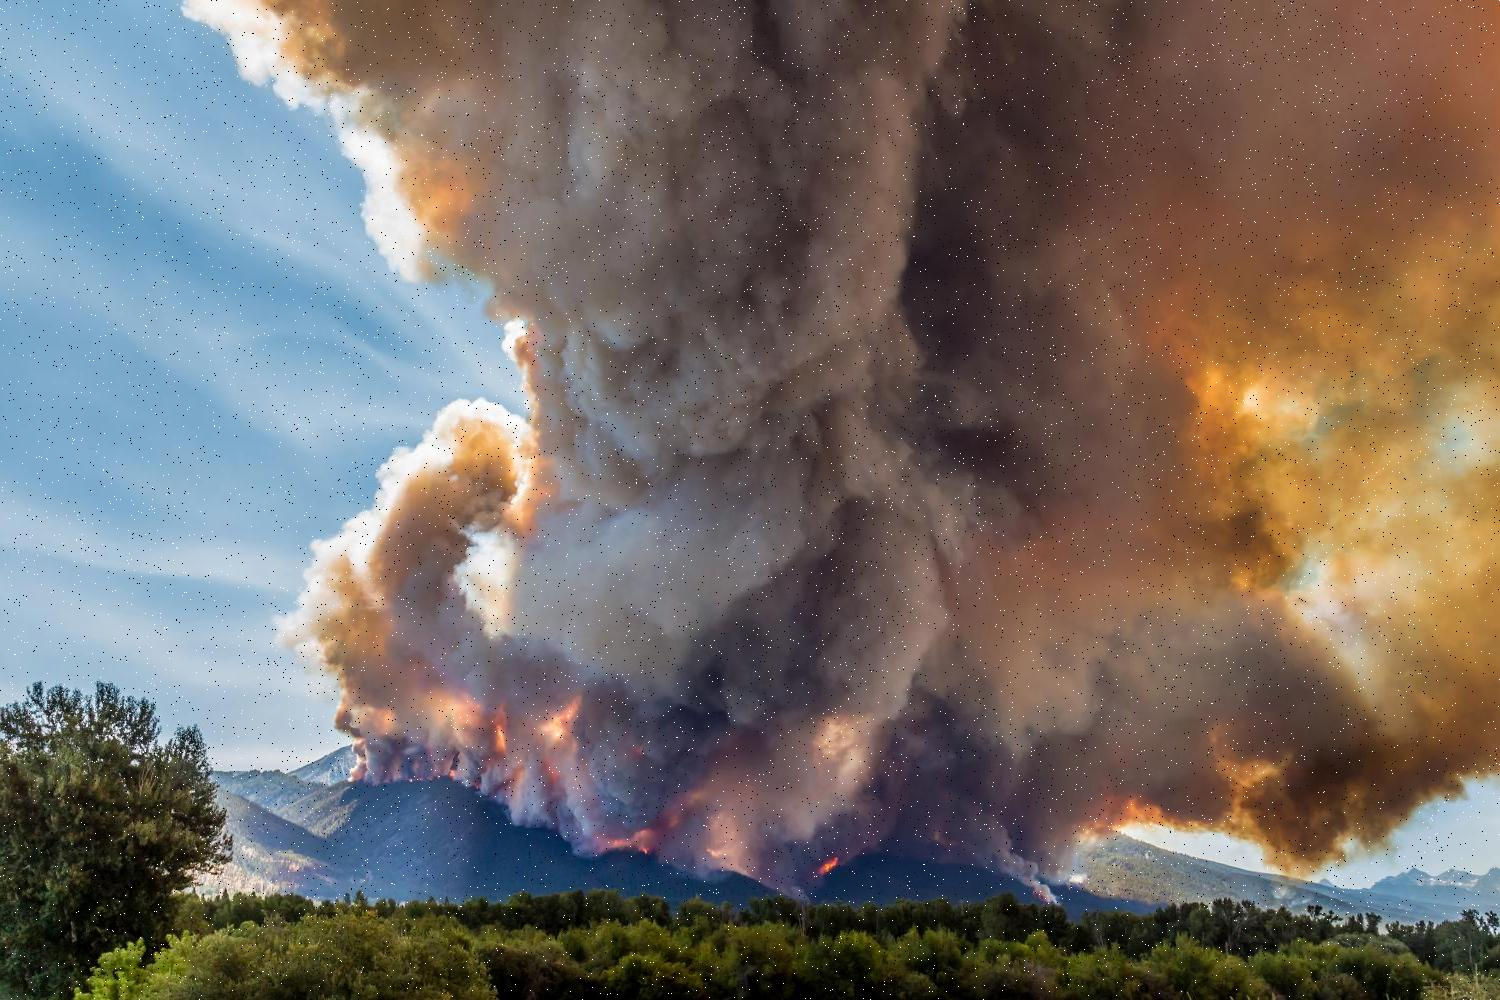fire: (523, 802, 856, 894)
